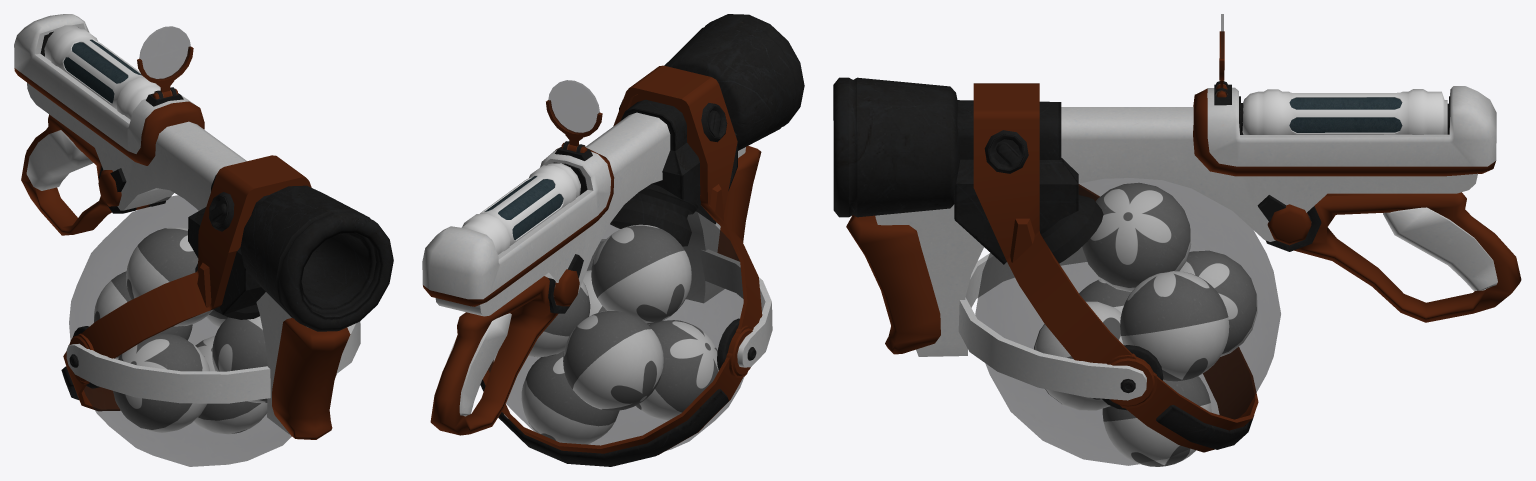
The model's file is PetalShotgun.fbx.
3 renders of one model, left to right at view 1: azimuth 30°, elevation 25°; view 2: azimuth 150°, elevation 25°; view 3: azimuth 270°, elevation 25°, orthographic. The views are drawn at different scales.
Visible parts, largest first — view 1: Petal_Shotgun_pSphere16, Petal_Shotgun_pCylinder30, Petal_Shotgun_polySurface160, Petal_Shotgun_pCube49, Petal_Shotgun_pCube45, Petal_Shotgun_polySurface152, Petal_Shotgun_pCube48, Ammo5, ammo2, Ammotube_Shell, Petal_Shotgun_Handle, ammo6 (+12 smaller); view 2: Petal_Shotgun_pSphere16, Petal_Shotgun_polySurface160, Petal_Shotgun_pCube49, Petal_Shotgun_pCylinder30, Petal_Shotgun_Handle, ammo3, Petal_Shotgun_pCube45, ammo2, ammo4, Ammo5, Petal_Shotgun_pSphere15, Ammotube_Shell (+12 smaller); view 3: Petal_Shotgun_pSphere16, Petal_Shotgun_polySurface160, Petal_Shotgun_pCube45, Petal_Shotgun_pCylinder30, Petal_Shotgun_pCube49, Petal_Shotgun_Handle, Ammo1, ammo2, Petal_Shotgun_polySurface152, Petal_Shotgun_pCube48, Petal_Shotgun_pSphere15, Petal_Shotgun_pCube47 (+12 smaller).
Boxes of the visible parts, bbox=[...] form: Petal_Shotgun_pSphere16: bbox=[69, 195, 336, 466]; Petal_Shotgun_pCylinder30: bbox=[240, 185, 393, 331]; Petal_Shotgun_polySurface160: bbox=[61, 155, 311, 411]; Petal_Shotgun_pCube49: bbox=[14, 14, 204, 165]; Petal_Shotgun_pCube45: bbox=[27, 83, 246, 210]; Petal_Shotgun_polySurface152: bbox=[66, 321, 360, 403]; Petal_Shotgun_pCube48: bbox=[272, 318, 350, 439]; Ammo5: bbox=[113, 333, 209, 432]; ammo2: bbox=[126, 227, 213, 326]; Ammotube_Shell: bbox=[44, 25, 160, 119]; Petal_Shotgun_Handle: bbox=[21, 114, 149, 235]; ammo6: bbox=[212, 316, 267, 402]; Petal_Shotgun_pSphere16: bbox=[488, 188, 743, 450]; Petal_Shotgun_polySurface160: bbox=[480, 65, 762, 466]; Petal_Shotgun_pCube49: bbox=[422, 147, 614, 306]; Petal_Shotgun_pCylinder30: bbox=[664, 14, 804, 150]; Petal_Shotgun_Handle: bbox=[430, 276, 558, 435]; ammo3: bbox=[563, 310, 663, 410]; Petal_Shotgun_pCube45: bbox=[435, 112, 670, 316]; ammo2: bbox=[591, 224, 691, 324]; ammo4: bbox=[521, 351, 619, 444]; Ammo5: bbox=[636, 320, 718, 420]; Petal_Shotgun_pSphere15: bbox=[620, 99, 737, 224]; Ammotube_Shell: bbox=[462, 163, 580, 254]; Petal_Shotgun_pSphere16: bbox=[975, 178, 1280, 465]; Petal_Shotgun_polySurface160: bbox=[973, 83, 1258, 452]; Petal_Shotgun_pCube45: bbox=[1061, 107, 1477, 241]; Petal_Shotgun_pCylinder30: bbox=[833, 77, 960, 217]; Petal_Shotgun_pCube49: bbox=[1193, 86, 1496, 176]; Petal_Shotgun_Handle: bbox=[1294, 192, 1521, 322]; Ammo1: bbox=[1120, 271, 1229, 381]; ammo2: bbox=[1082, 182, 1191, 292]; Petal_Shotgun_polySurface152: bbox=[958, 247, 1146, 400]; Petal_Shotgun_pCube48: bbox=[846, 215, 940, 354]; Petal_Shotgun_pSphere15: bbox=[954, 100, 1078, 264]; Petal_Shotgun_pCube47: bbox=[875, 204, 984, 356].
Bounding box in the file's own units: 4.15 × 5.82 × 8.31.
